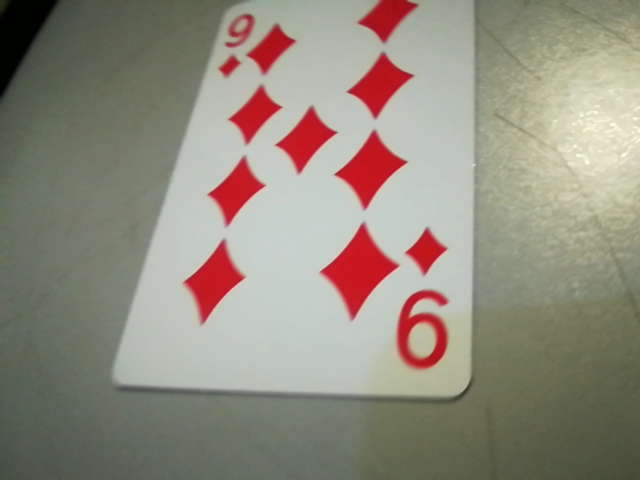fk 9: (388, 218, 464, 382)
